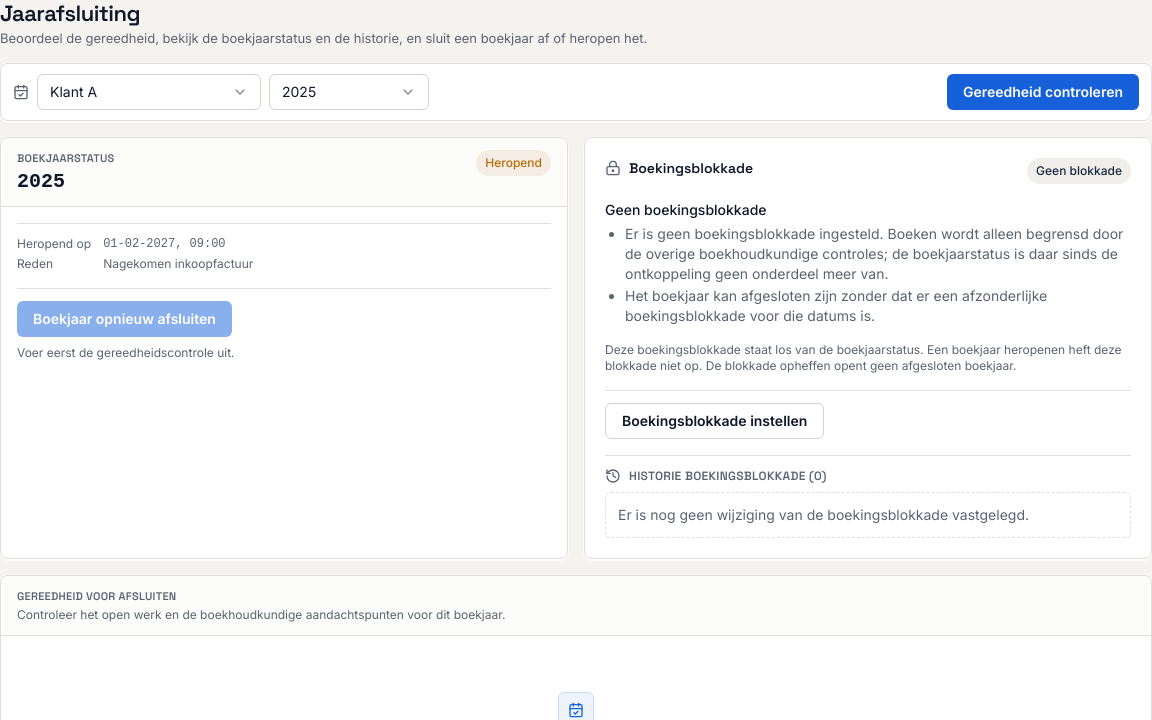
Test: De status en de knop die erbij hoort › 2. een heropend jaar toont Heropend en, na een schone controle, 'opnieuw afsluiten'
Expected: the text with test id "jaar-status-badge" reads "Heropend", left=485, top=155, right=542, bottom=170
Click the button with test id "jaar-uitvoeren".
click(1043, 92)  # box left=947, top=74, right=1139, bottom=110
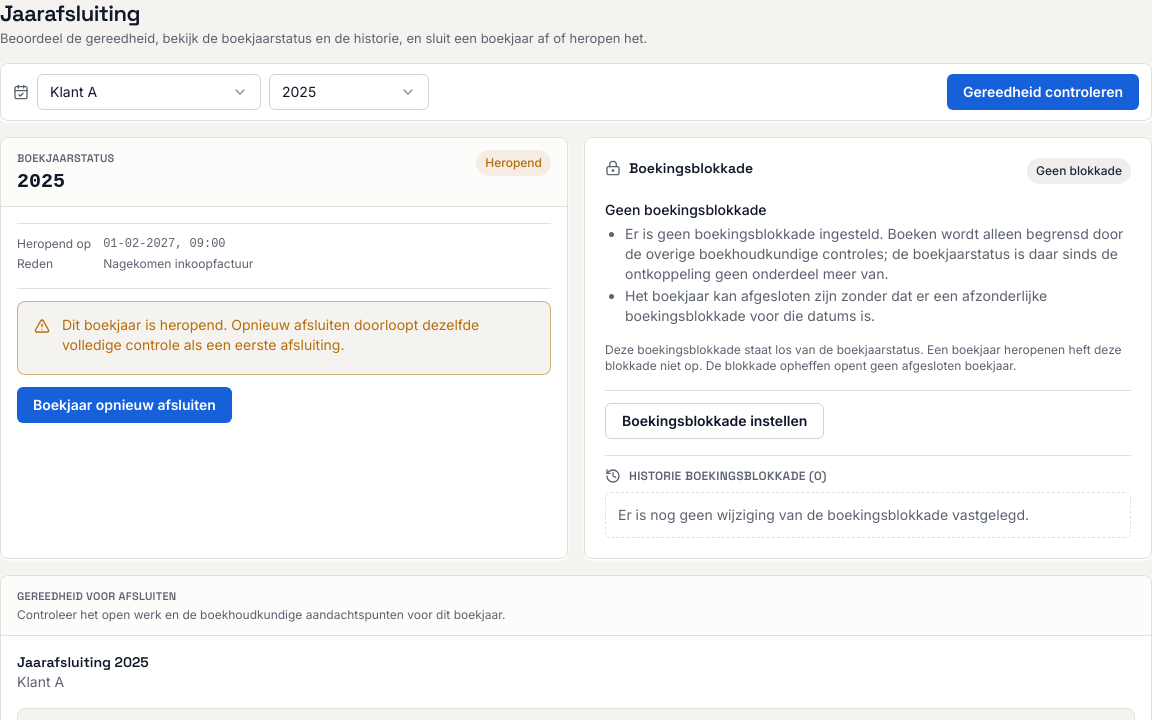
Expected: the button with test id "jaar-afsluiten" reads "Boekjaar opnieuw afsluiten", left=17, top=387, right=232, bottom=423
Expected: the element with test id "jaar-heropend-hint" shows "dezelfde volledige controle", left=62, top=316, right=479, bottom=353
